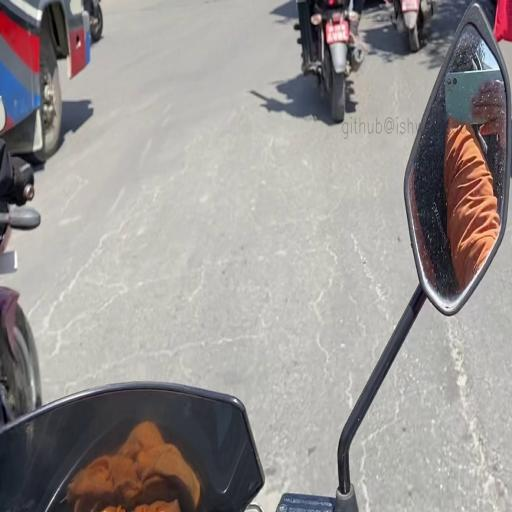license_plate: (326, 20, 350, 45)
